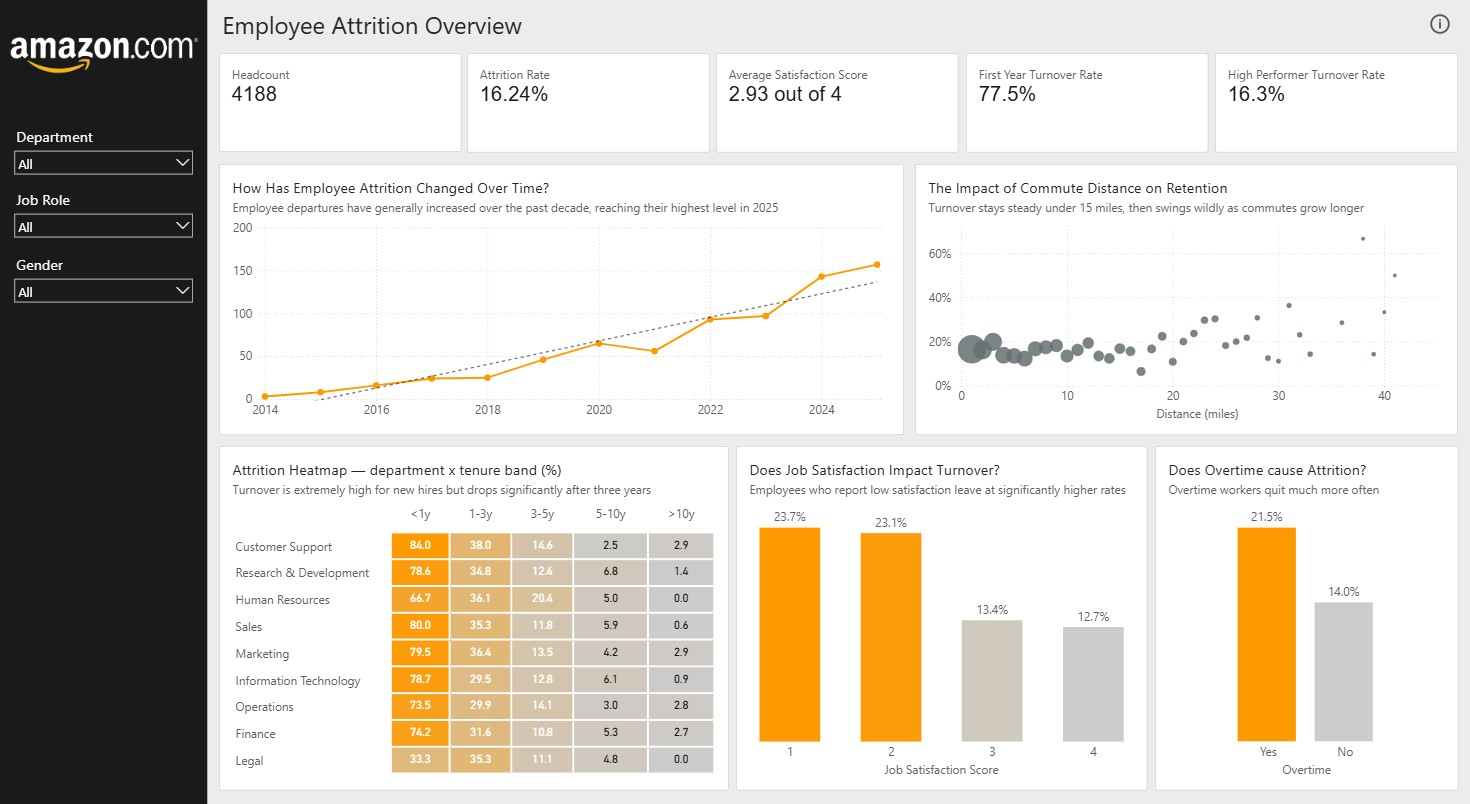

Layout of this report page (visuals, bound fields, positions):
{"tool":"powerbi","page":{"name":"Duplicate of Dashboard Overview","canvas":[2309,1270],"ordinal":1},"visuals":[{"type":"pivotTable","title":"Attrition Heatmap — department x tenure band (%)","fields":{"Rows":["department.department_name"],"Values":["_Measures.Attrition Rate"],"Columns":["employee.TenureBands"]},"box":[343.4,706.6,799.1,539.6],"z":0},{"type":"cardVisual","fields":{"Data":["_Measures.Headcount"]},"box":[343,90.2,380,155],"z":1000},{"type":"cardVisual","fields":{"Data":["_Measures.Attrition Rate (Simple)"]},"box":[731.8,90.8,381.2,155.6],"z":2000},{"type":"lineChart","title":"How Has Employee Attrition Changed Over Time?","fields":{"Y":["_Measures.Attrition Count"],"Category":["Calendar.Year"]},"box":[343.6,264.3,1073.9,424.6],"z":3000},{"type":"scatterChart","title":"The Impact of Commute Distance on Retention","fields":{"Size":["Count(employee.employee_id)"],"X":["employee.distance_from_home"],"Y":["_Measures.Attrition Rate (Simple)"]},"box":[1435.2,264.3,850.6,424.6],"z":4000},{"type":"columnChart","title":"Does Overtime cause Attrition?","fields":{"Category":["employee.overtime"],"Y":["_Measures.Attrition Rate (Simple)"]},"box":[1811.6,706.9,476.1,539.9],"z":5000},{"type":"columnChart","title":"Does Job Satisfaction Impact Turnover?","fields":{"Category":["employee.job_satisfaction"],"Y":["_Measures.Attrition Rate (Simple)"]},"box":[1154,707.2,644.7,540.4],"z":6000},{"type":"cardVisual","fields":{"Data":["_Measures.Average Satisfaction Score"]},"box":[1122.4,90.8,379.6,155.6],"z":7000},{"type":"cardVisual","fields":{"Data":["_Measures.First Year Turnover Rate"]},"box":[1514.5,90.8,379.6,155.6],"z":8000},{"type":"cardVisual","fields":{"Data":["_Measures.High Performance Turnover Rate"]},"box":[1905,90.8,381.2,155.6],"z":9000},{"type":"shape","box":[0,0,324.6,1270],"z":10000},{"type":"image","box":[12.4,35.8,300.3,112],"z":11000},{"type":"slicer","fields":{"Values":["department.department_name"]},"box":[12.4,202.7,299.7,98.3],"z":12000},{"type":"slicer","fields":{"Values":["employee.gender"]},"box":[12.4,402.5,299.7,98.3],"z":13000},{"type":"slicer","fields":{"Values":["job_role.job_role"]},"box":[12.4,301,299.7,96.7],"z":14000},{"type":"textbox","box":[343.4,15.7,523.7,59.6],"z":15000},{"type":"actionButton","box":[2237.4,25.1,50.2,40.8],"z":16000}]}

Visuals, with their boxes in screenshot pixels (x1, y1, x2, y2), scaled from the page's 2309x1270 canvas onto the 1470x804 screenshot:
"Attrition Heatmap — department x tenure band (%)" pivotTable: rect(219, 447, 727, 789)
cardVisual - _Measures.Headcount: rect(218, 57, 460, 155)
cardVisual - _Measures.Attrition Rate (Simple): rect(466, 57, 709, 156)
"How Has Employee Attrition Changed Over Time?" lineChart: rect(219, 167, 902, 436)
"The Impact of Commute Distance on Retention" scatterChart: rect(914, 167, 1455, 436)
"Does Overtime cause Attrition?" columnChart: rect(1153, 448, 1456, 789)
"Does Job Satisfaction Impact Turnover?" columnChart: rect(735, 448, 1145, 790)
cardVisual - _Measures.Average Satisfaction Score: rect(715, 57, 956, 156)
cardVisual - _Measures.First Year Turnover Rate: rect(964, 57, 1206, 156)
cardVisual - _Measures.High Performance Turnover Rate: rect(1213, 57, 1455, 156)
shape: rect(0, 0, 207, 803)
image: rect(8, 23, 199, 94)
slicer - department.department_name: rect(8, 128, 199, 191)
slicer - employee.gender: rect(8, 255, 199, 317)
slicer - job_role.job_role: rect(8, 191, 199, 252)
textbox: rect(219, 10, 552, 48)
actionButton: rect(1424, 16, 1456, 42)
